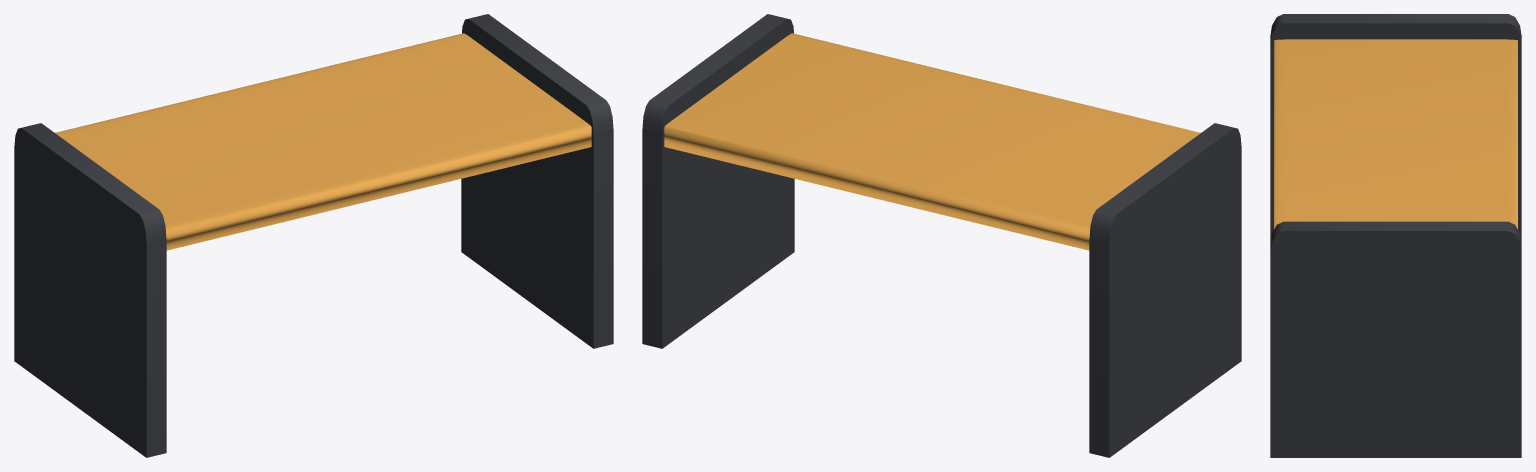
Rendered from Desk.fbx.
3 views of the same model, side by side, from view 1: azimuth 30°, elevation 25°; view 2: azimuth 150°, elevation 25°; view 3: azimuth 270°, elevation 25° (orthographic). The views are drawn at different scales.
Visible parts, largest first — view 1: Cube, Cube.001, Cube.002; view 2: Cube, Cube.001, Cube.002; view 3: Cube.002, Cube, Cube.001.
Part boxes in pixels (left/top/right/bottom): Cube: left=55, top=33, right=591, bottom=250; Cube.001: left=14, top=123, right=166, bottom=457; Cube.002: left=461, top=14, right=613, bottom=348; Cube: left=664, top=33, right=1200, bottom=250; Cube.001: left=1089, top=123, right=1241, bottom=457; Cube.002: left=642, top=14, right=794, bottom=348; Cube.002: left=1270, top=221, right=1521, bottom=457; Cube: left=1274, top=39, right=1517, bottom=228; Cube.001: left=1270, top=14, right=1521, bottom=242.
Bounding box in the file's own units: 1382 × 674 × 677.
